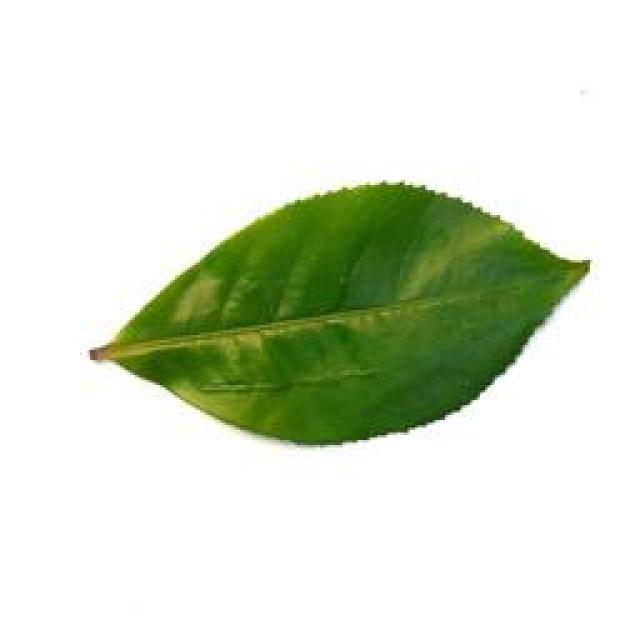Healthy: (81, 174, 603, 458)
